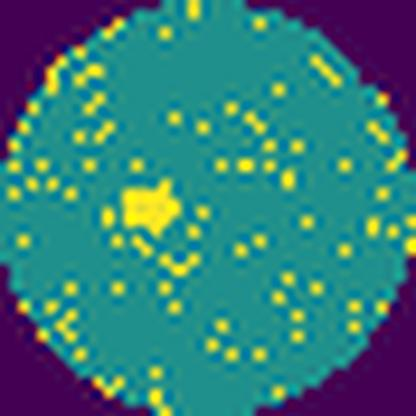Loc: (125, 178, 186, 232)
